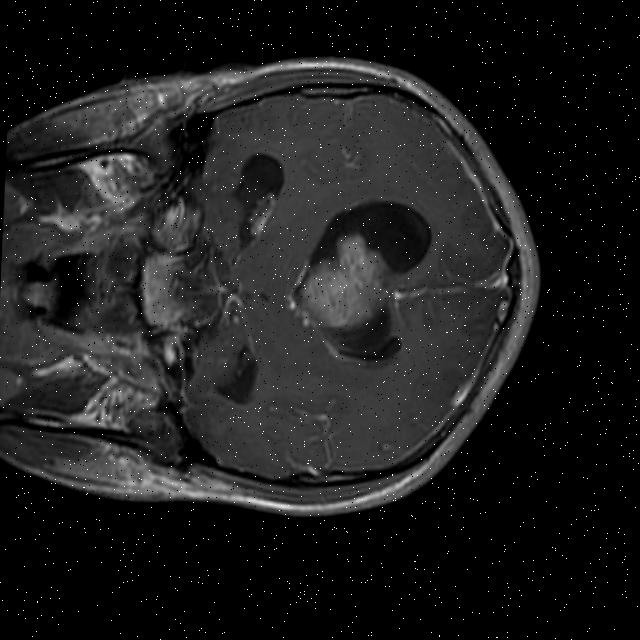Glioma: (296, 229, 398, 337)
Pituitary: (138, 247, 185, 328)
